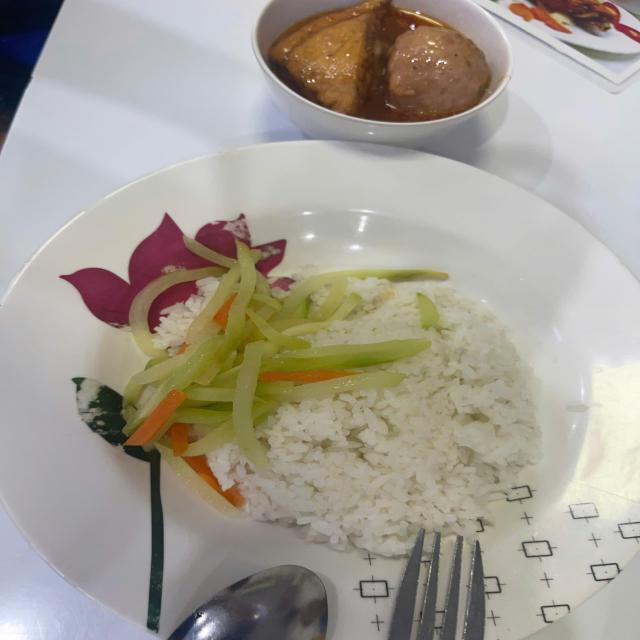com: (206, 279, 541, 556), (155, 280, 219, 354)
dau hu: (268, 0, 380, 114)
kho trung: (388, 26, 491, 120)
rau: (123, 237, 447, 514)
